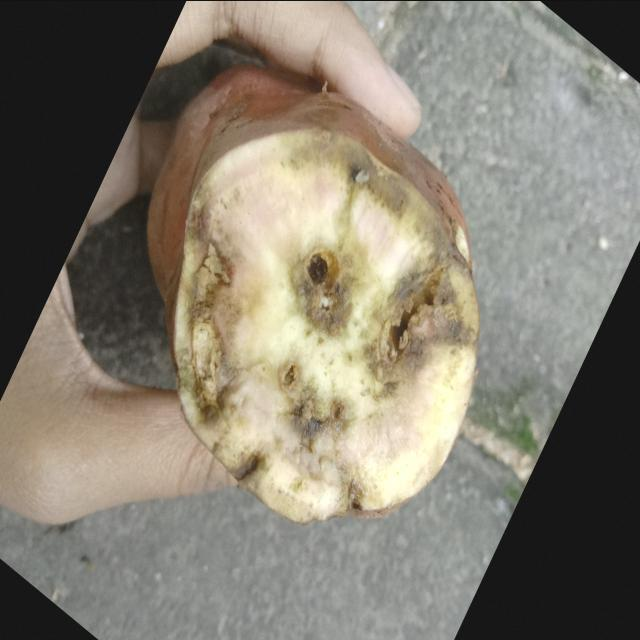Sick Sweet Potato_Tuber Rot: (172, 93, 479, 522)
